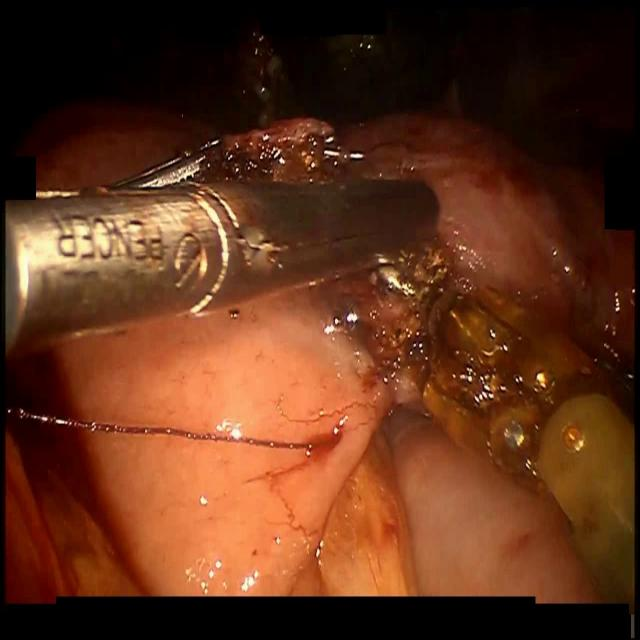surgical-area: (4, 12, 640, 607)
surgical-tool: (2, 177, 440, 362), (429, 290, 640, 607)
